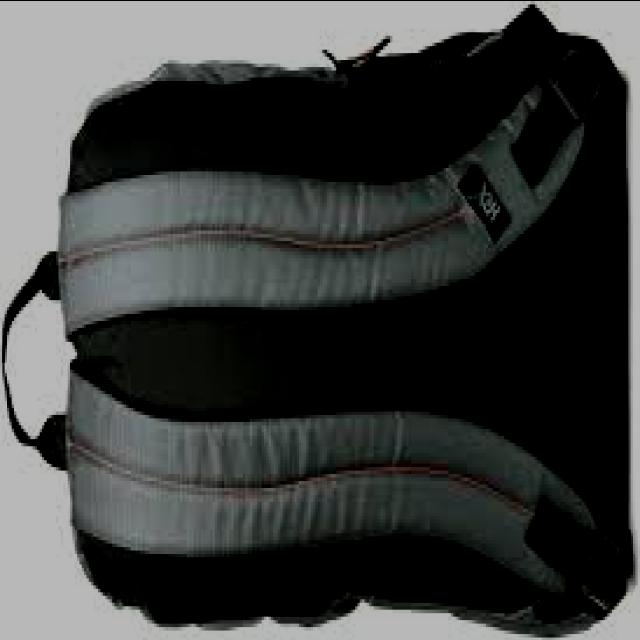backpack: (1, 5, 629, 640)
